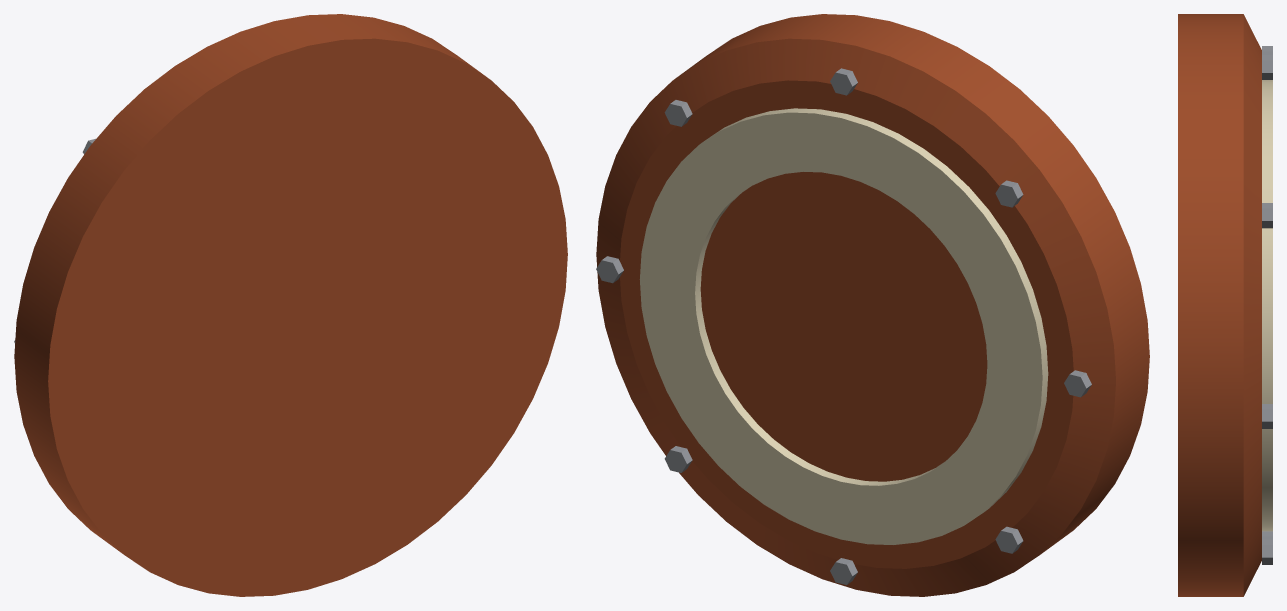
The model's file is pod100_access_hatch.obj.
3 renders of one model, left to right at view 1: azimuth 30°, elevation 25°; view 2: azimuth 150°, elevation 25°; view 3: azimuth 270°, elevation 25°, orthographic. The views are drawn at different scales.
Parts seen in each view (by area): view 1: pod100_access_hatch; view 2: pod100_access_hatch; view 3: pod100_access_hatch.
Boxes of the visible parts, left/top/right/bottom form: pod100_access_hatch: left=14, top=14, right=567, bottom=596; pod100_access_hatch: left=596, top=14, right=1149, bottom=596; pod100_access_hatch: left=1178, top=14, right=1272, bottom=596.
Size of the model in its own units: 1.6 by 1.6 by 0.26.
